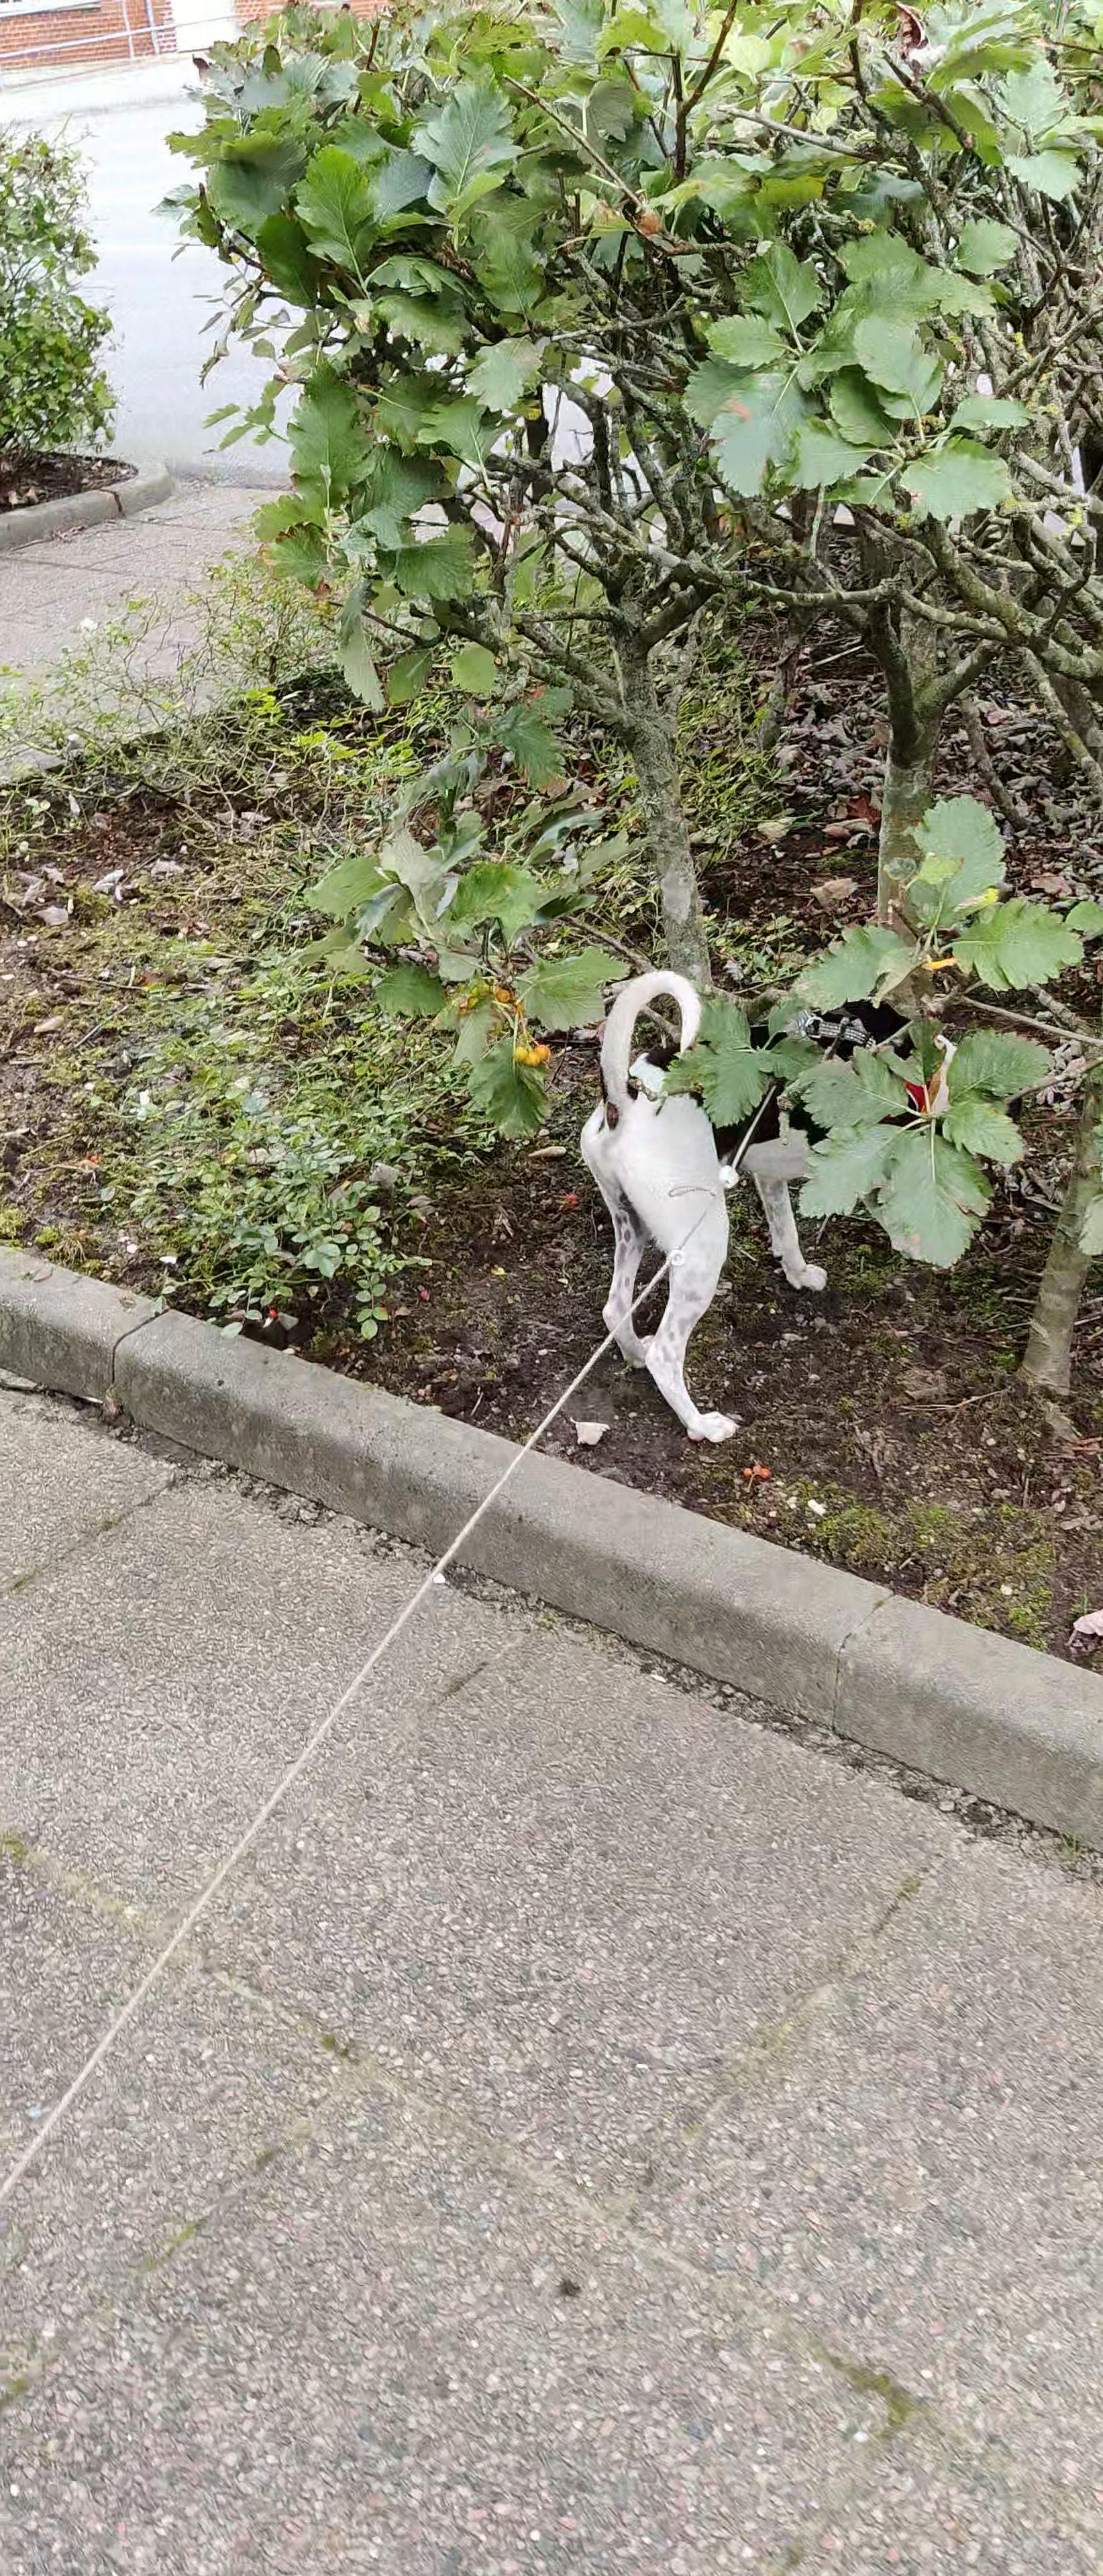Dog: (569, 931, 1049, 1451)
